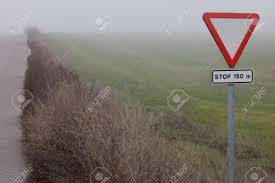yield_sign: (201, 11, 259, 70)
